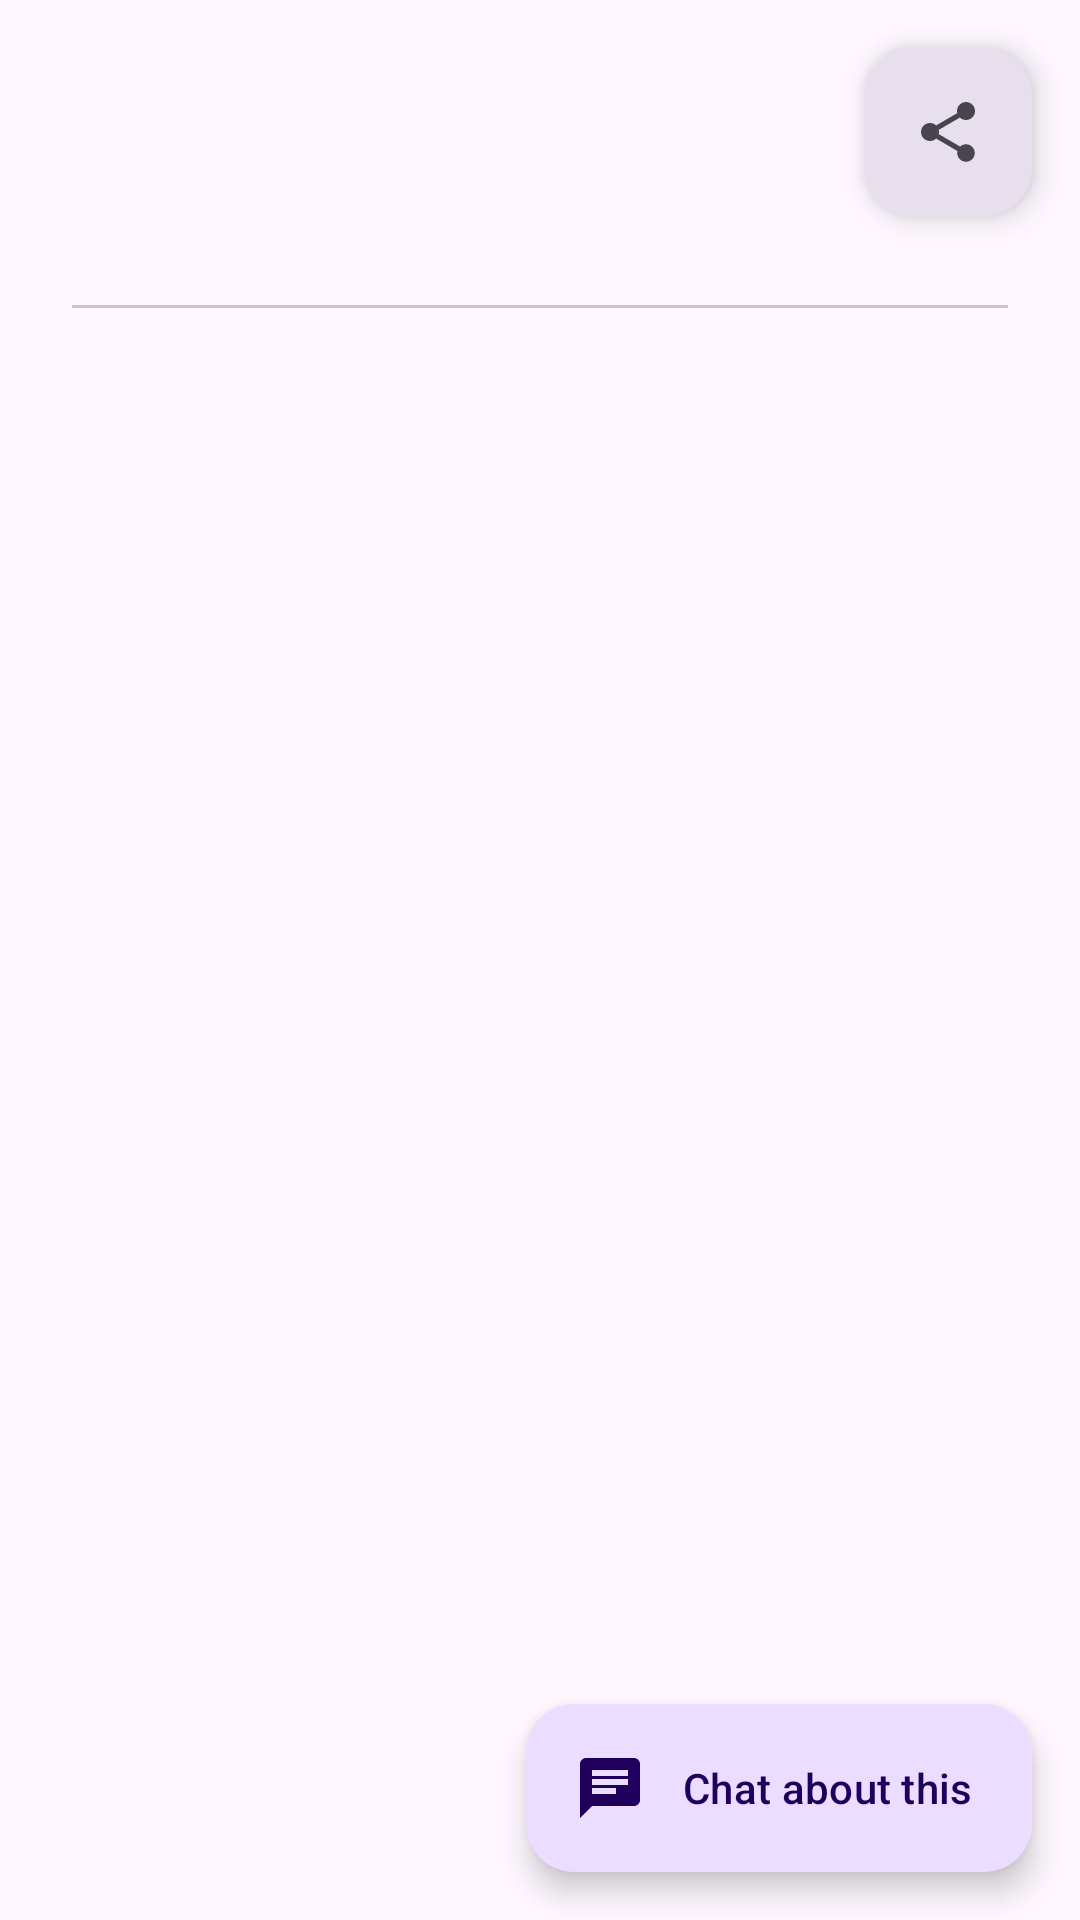

Screen size 1080×1920. Icon name, then its box in pixels as {"left": x1, "top": y1, "right": x2, "bottom": y2}:
Share result: {"left": 921, "top": 102, "right": 975, "bottom": 162}
